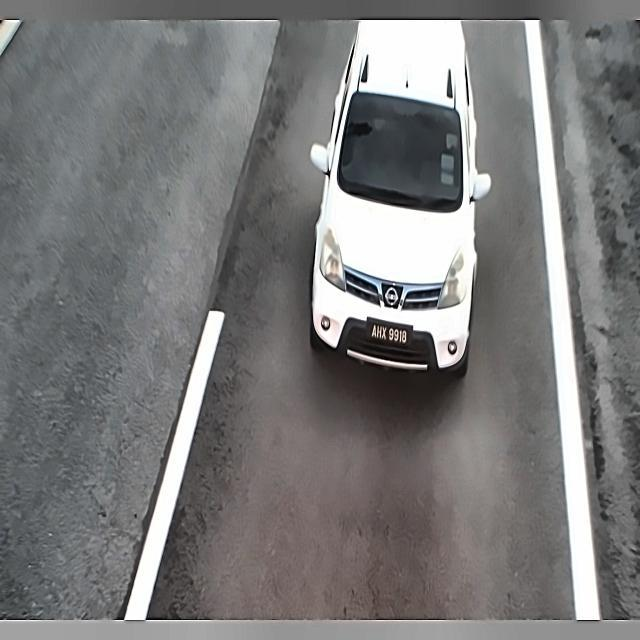car: (362, 309, 418, 360)
